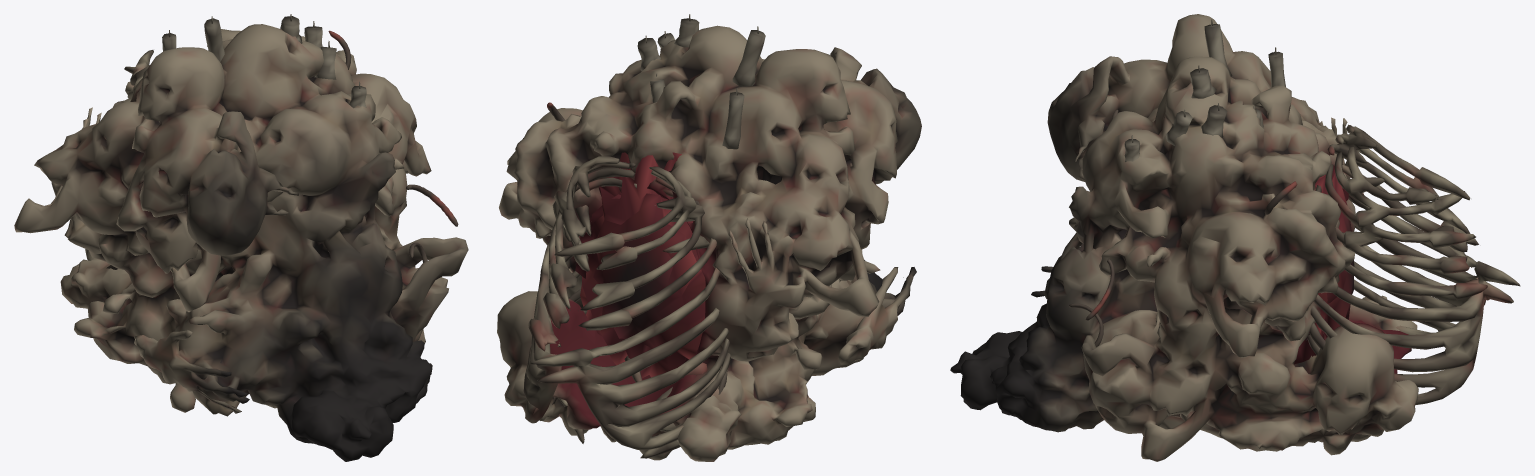
File: anima_mouth.glb
The picture shows the model from 3 angles, left to right: view 1: azimuth 30°, elevation 25°; view 2: azimuth 150°, elevation 25°; view 3: azimuth 270°, elevation 25°; orthographic projection. The views are drawn at different scales.
Visible parts, largest first — view 1: Mass, Candles, Bones, RibsLeft; view 2: Mass, RibsLeft, Gullet, RibsRight, Candles; view 3: Mass, RibsRight, RibsLeft, Candles, Gullet, Bones.
Part boxes in pixels (x1,y1,x2,y2): Mass: (14,24,468,461); Candles: (162,14,366,107); Bones: (328,30,458,262); RibsLeft: (85,50,153,269); Mass: (497,25,921,461); RibsLeft: (530,166,730,458); Gullet: (580,152,705,378); RibsRight: (523,156,642,443); Candles: (637,14,765,149); Mass: (950,14,1418,461); RibsRight: (1307,147,1487,405); RibsLeft: (1327,124,1520,334); Candles: (1124,19,1285,161); Gullet: (1294,165,1354,364); Bones: (1069,110,1297,347).
Bounding box in the file's own units: 1.62 × 1.52 × 2.05.
